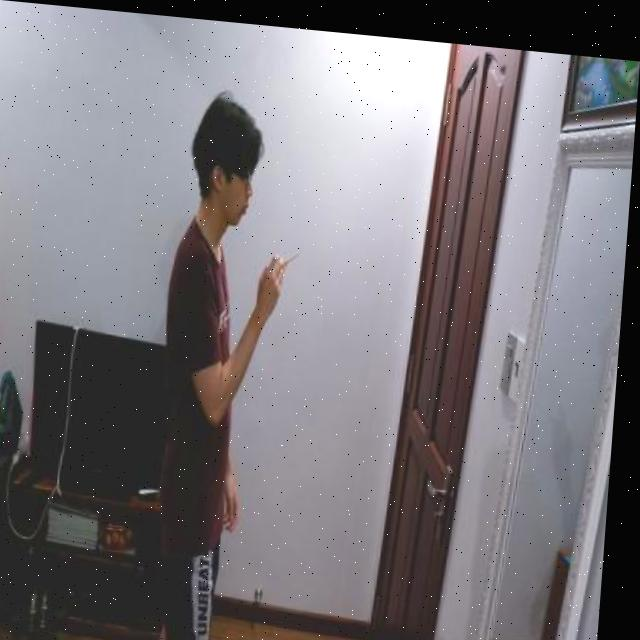cigarette: (284, 243, 303, 265)
